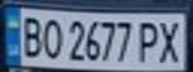2: (63, 16, 87, 61)
6: (81, 17, 103, 62)
7: (115, 18, 136, 63), (100, 17, 118, 62)
B: (15, 12, 45, 59)
O: (36, 15, 66, 61)
P: (136, 18, 163, 63)
X: (154, 17, 187, 64)
